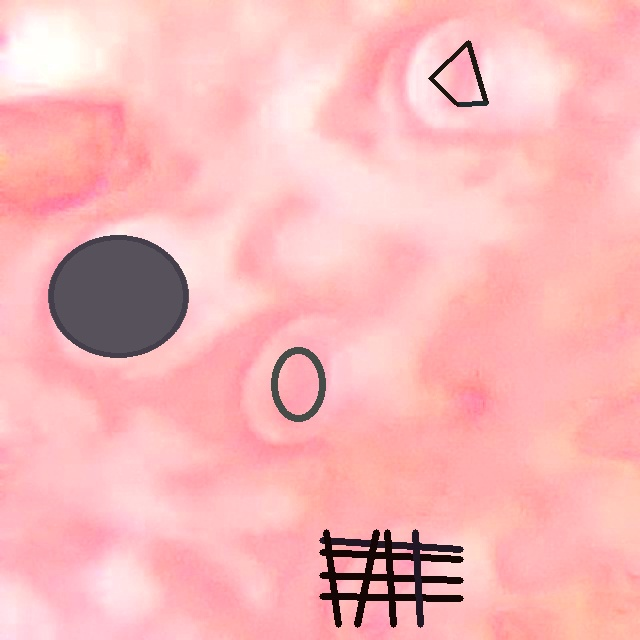close: (47, 235, 188, 358), (270, 346, 327, 422), (428, 41, 487, 105)
open: (320, 529, 463, 626)
